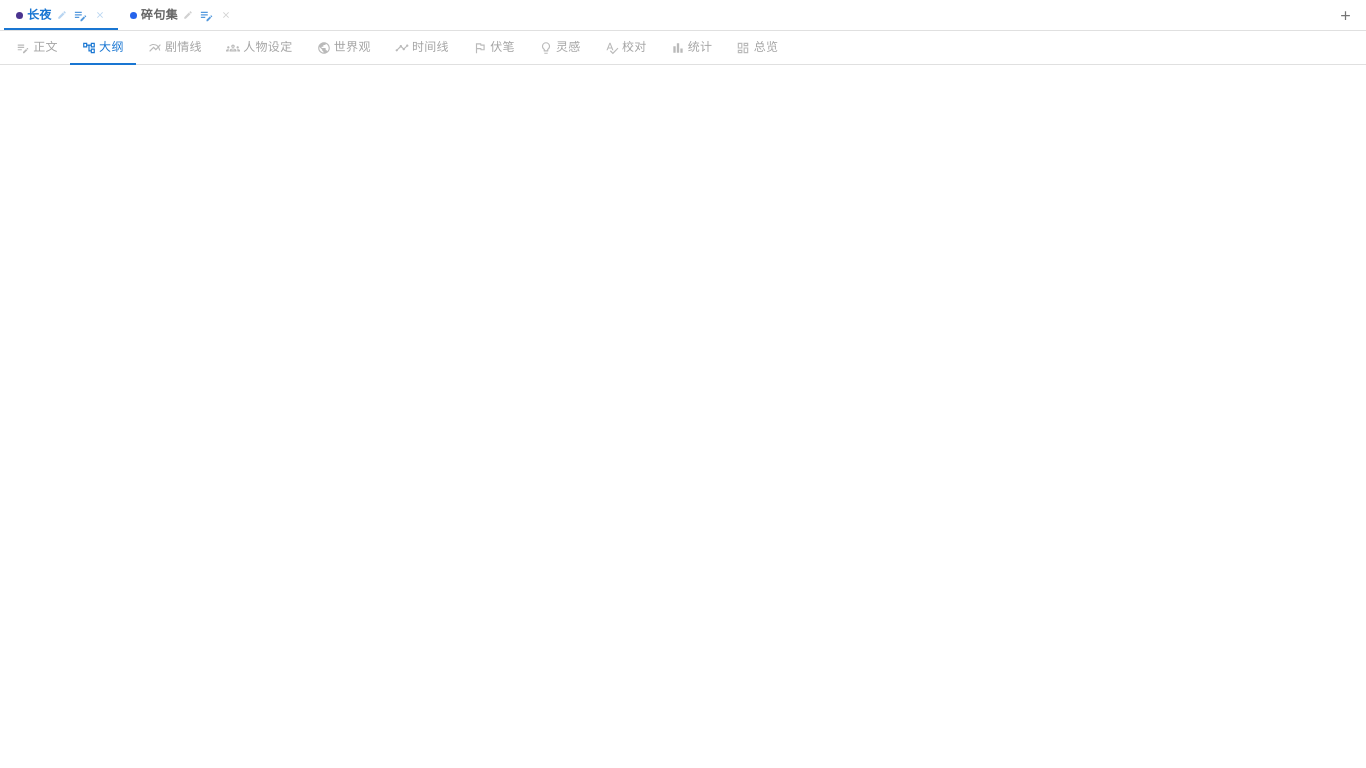
Test: SceneTabBar · L1 = 作品页签 › 点删除 → 弹「删除作品」确认框，且**确认前不落库**（放弃是不可恢复的）
What coordinates should you click on to do the following:
click the 2nd button named "删除作品（放弃这本书）"
I would click on:
 (226, 15)
Its box is [221, 10, 231, 20].
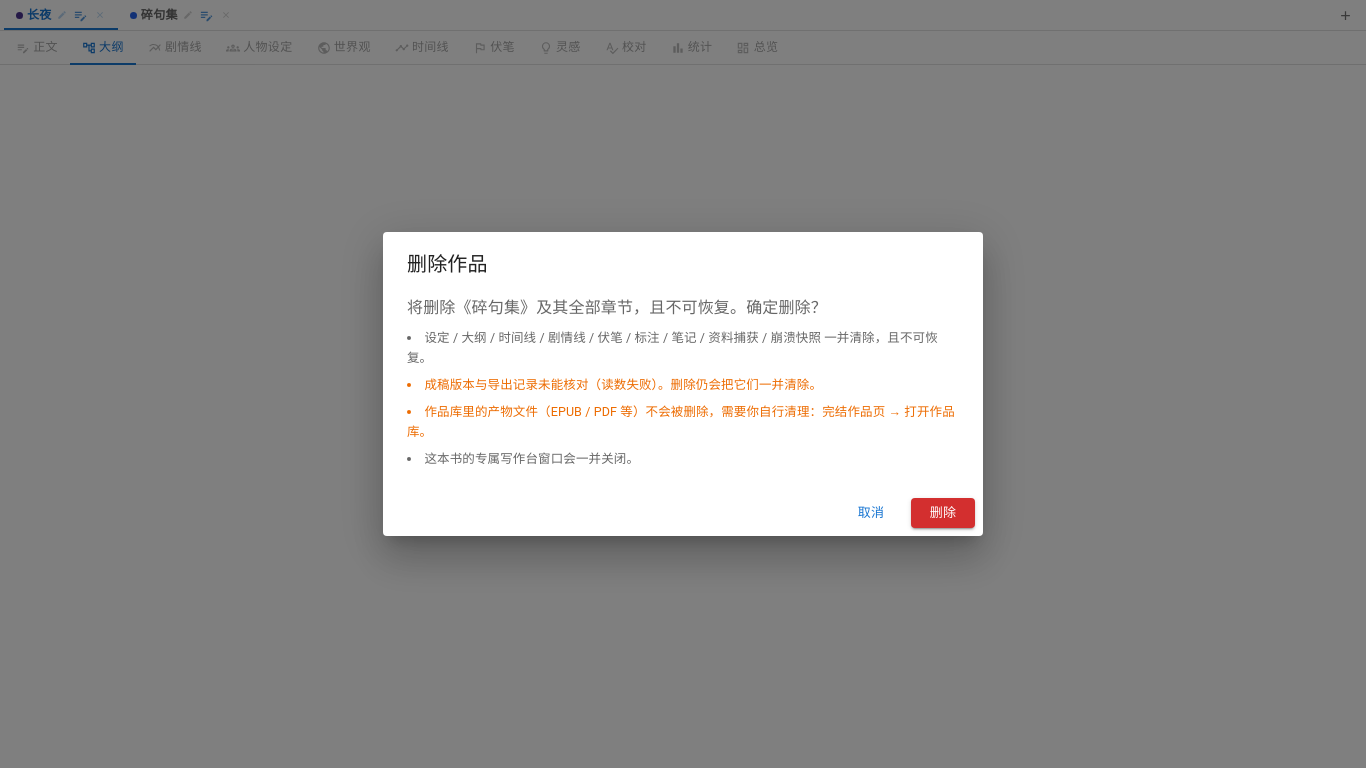
Expected: the heading "删除作品" is shown, [407, 252, 488, 276]
